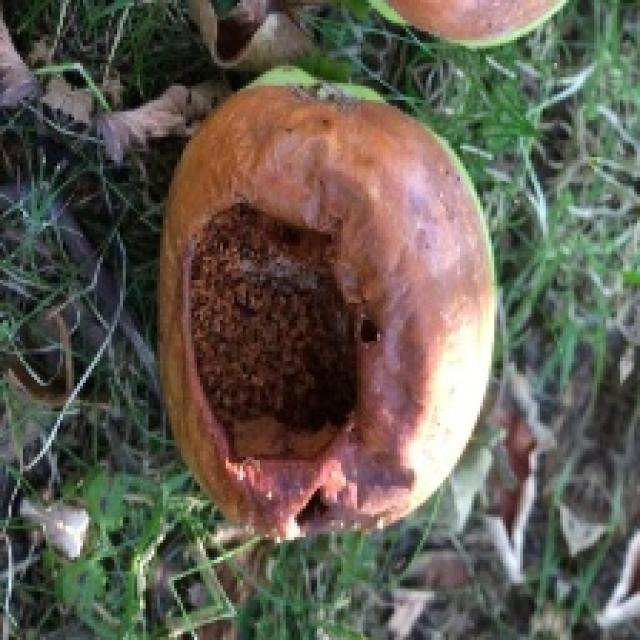rotten_apple: (167, 74, 490, 529)
